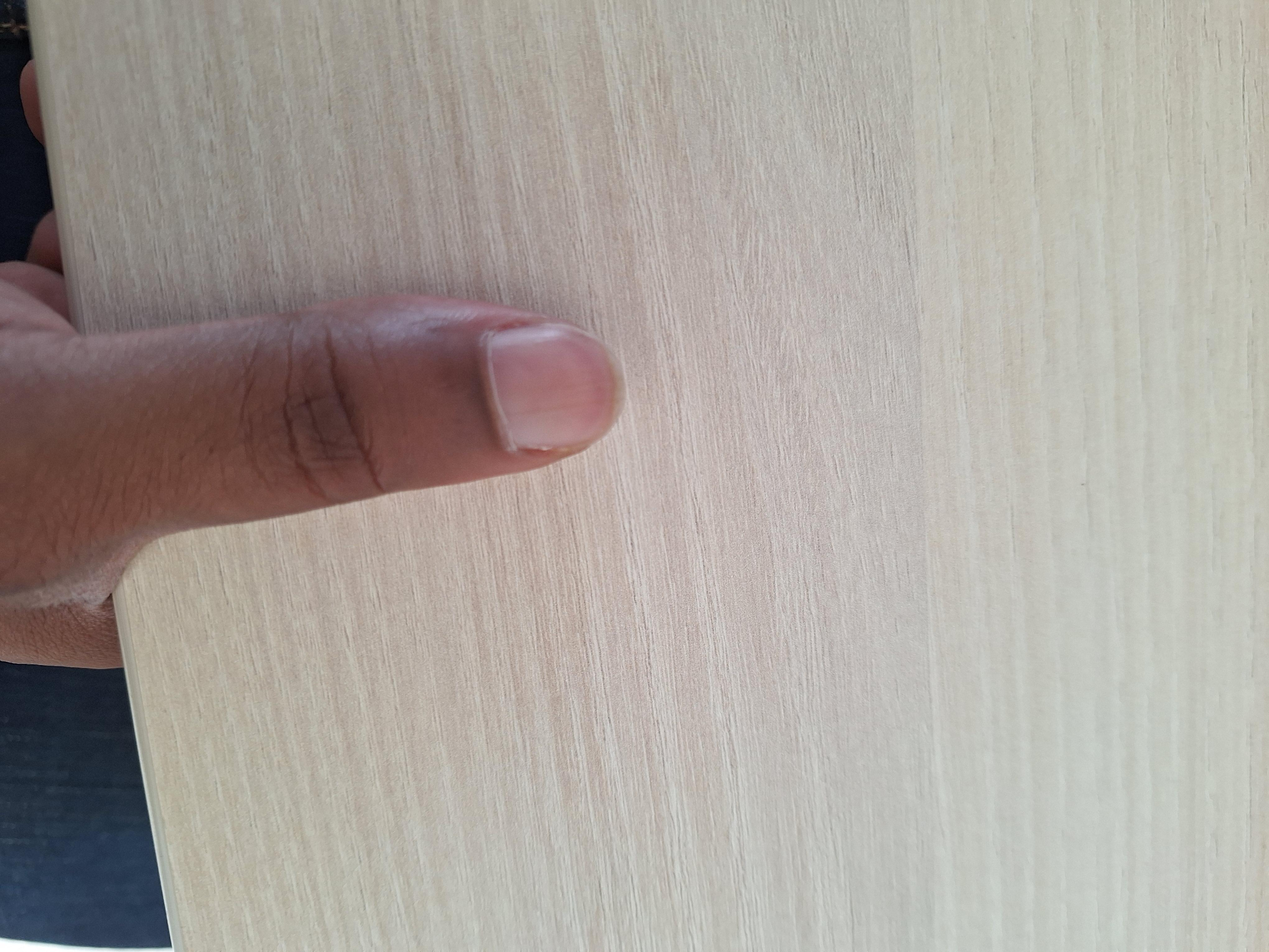Fingernail: (490, 323, 628, 452)
